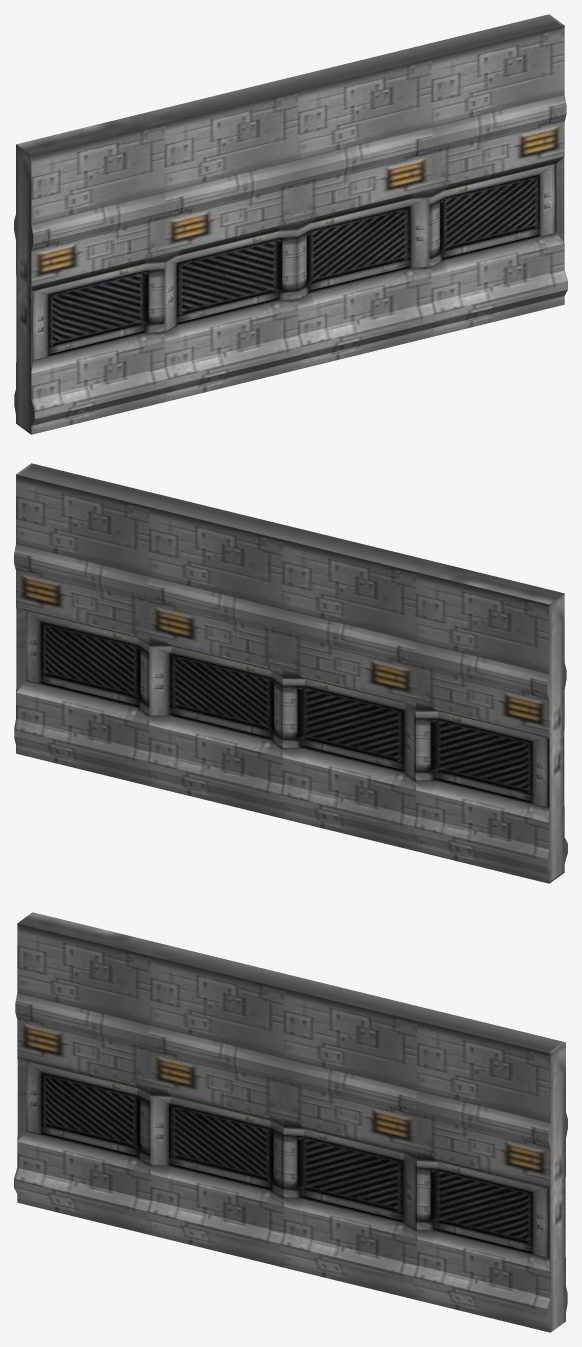
File: metallic_wall02.fbx
3 renders of one model, top to bottom at view 1: azimuth 30°, elevation 25°; view 2: azimuth 150°, elevation 25°; view 3: azimuth 330°, elevation 25°, orthographic.
Visible parts, largest first — view 1: Cube; view 2: Cube; view 3: Cube.
Boxes of the visible parts, x1,y1,x2,y2 form: Cube: [14, 14, 567, 434]; Cube: [14, 463, 567, 883]; Cube: [14, 912, 567, 1332].
Size of the model in its own units: 4000 by 2000 by 268.
Materials: 1 (1 with a texture image).
